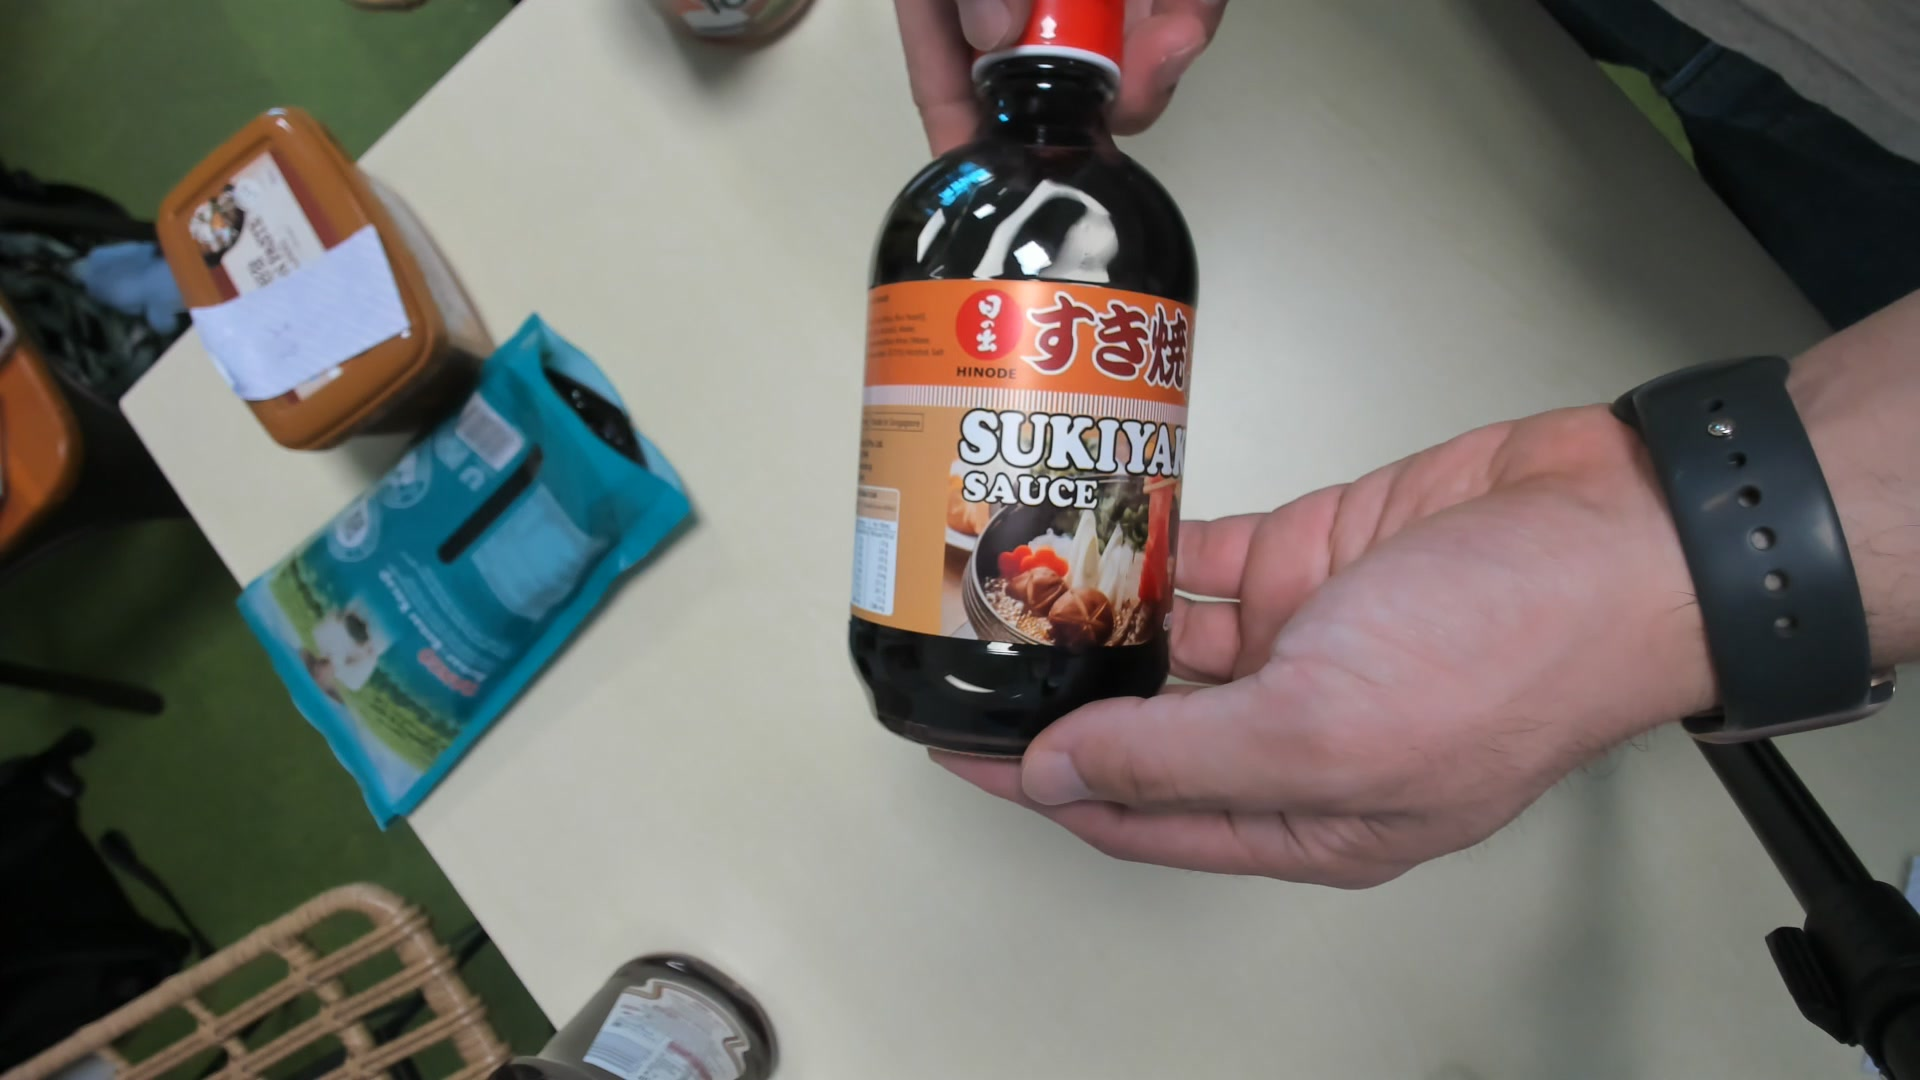OtherSauceDressing_400-499g_NonHalal_NonHealthy: (855, 7, 1204, 766)
